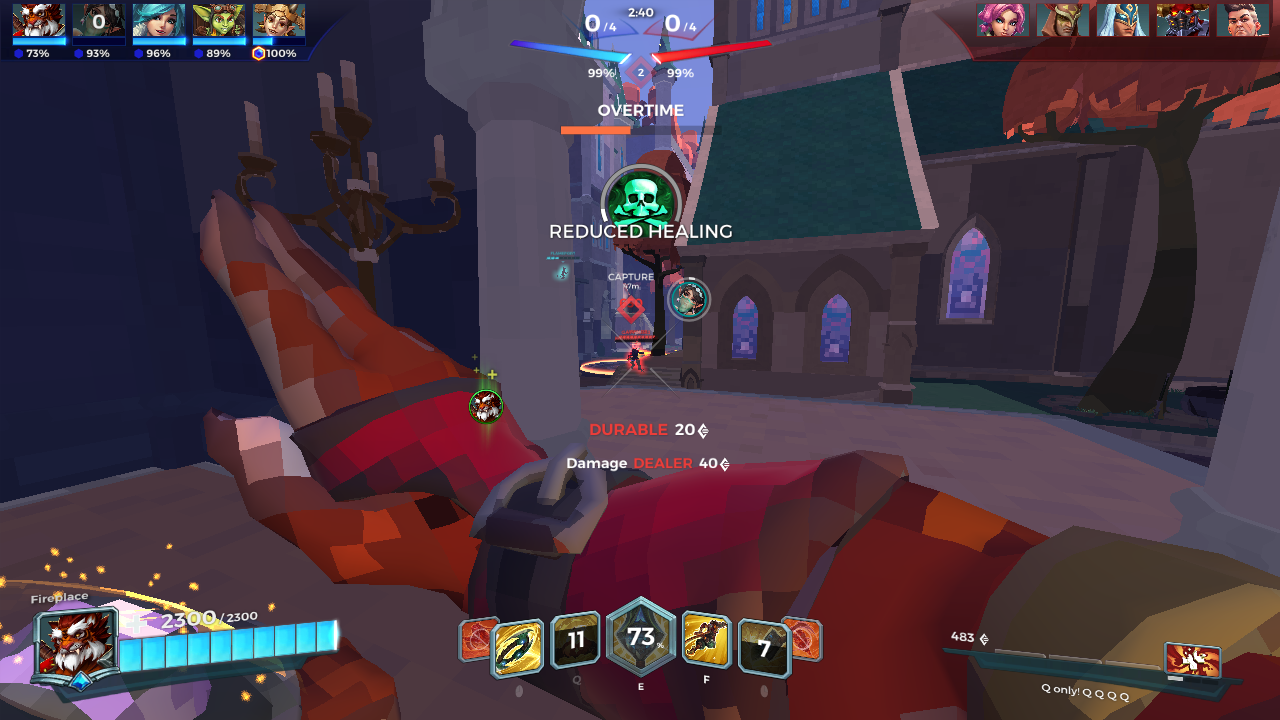model: (626, 346, 644, 372)
